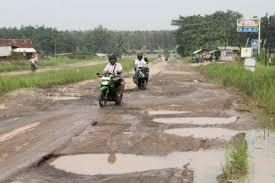Pothole: (40, 111, 275, 183), (149, 103, 242, 123), (145, 86, 202, 101), (43, 89, 87, 103), (174, 76, 218, 86)
